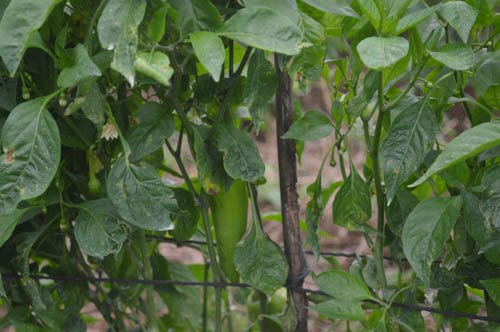ChiliPepper: (212, 187, 249, 282)
